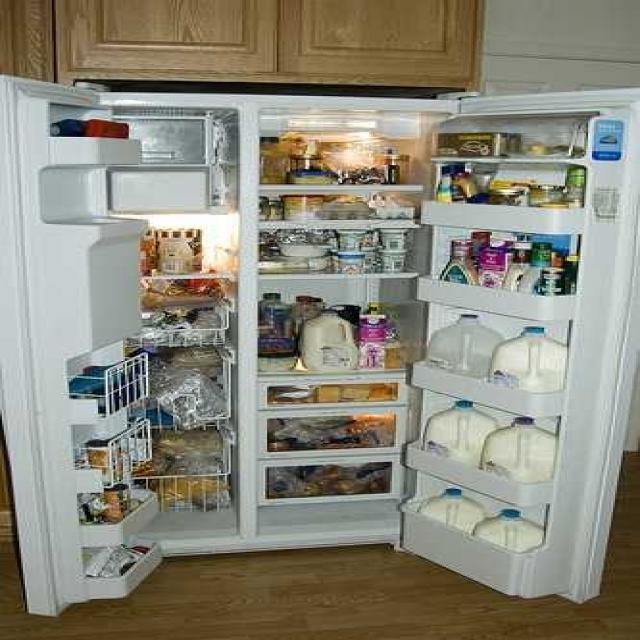refrigerator: (5, 90, 592, 586)
